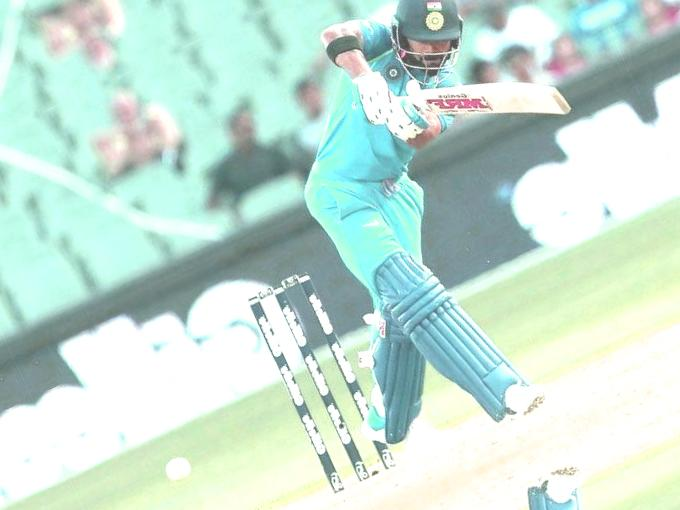batsman: (255, 2, 624, 470)
